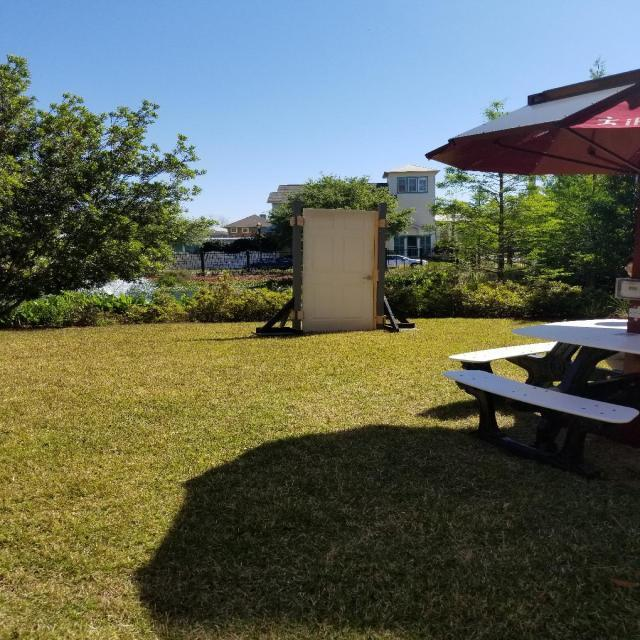door: (298, 204, 376, 335), (364, 274, 374, 284)
